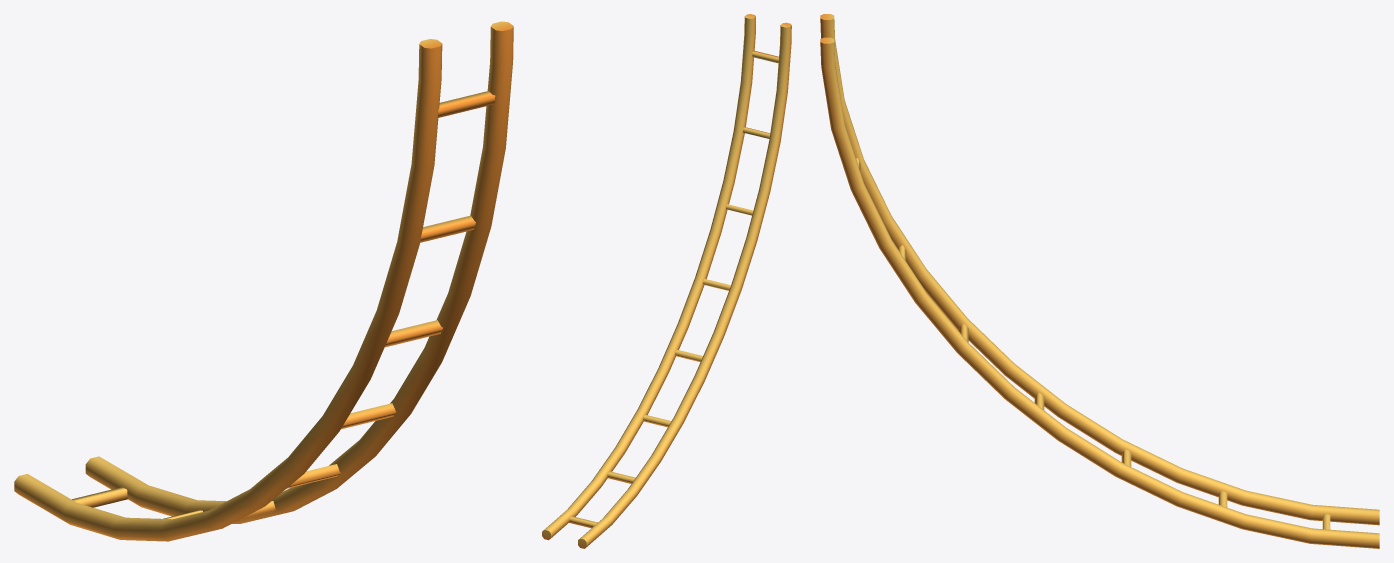
File: coaster-mouse-straight-bend-large.glb
The picture shows the model from 3 angles, left to right: view 1: azimuth 30°, elevation 25°; view 2: azimuth 150°, elevation 25°; view 3: azimuth 270°, elevation 25°; orthographic projection. The views are drawn at different scales.
Parts seen in each view (by area): view 1: coaster-mouse-straight-bend-large; view 2: coaster-mouse-straight-bend-large; view 3: coaster-mouse-straight-bend-large.
Boxes of the visible parts, x1=… form: coaster-mouse-straight-bend-large: x1=14, y1=21, x2=513, y2=541; coaster-mouse-straight-bend-large: x1=542, y1=14, x2=791, y2=548; coaster-mouse-straight-bend-large: x1=820, y1=14, x2=1379, y2=548.
Size of the model in its own units: 0.5 by 4 by 4.
1 material, 1 textured.
